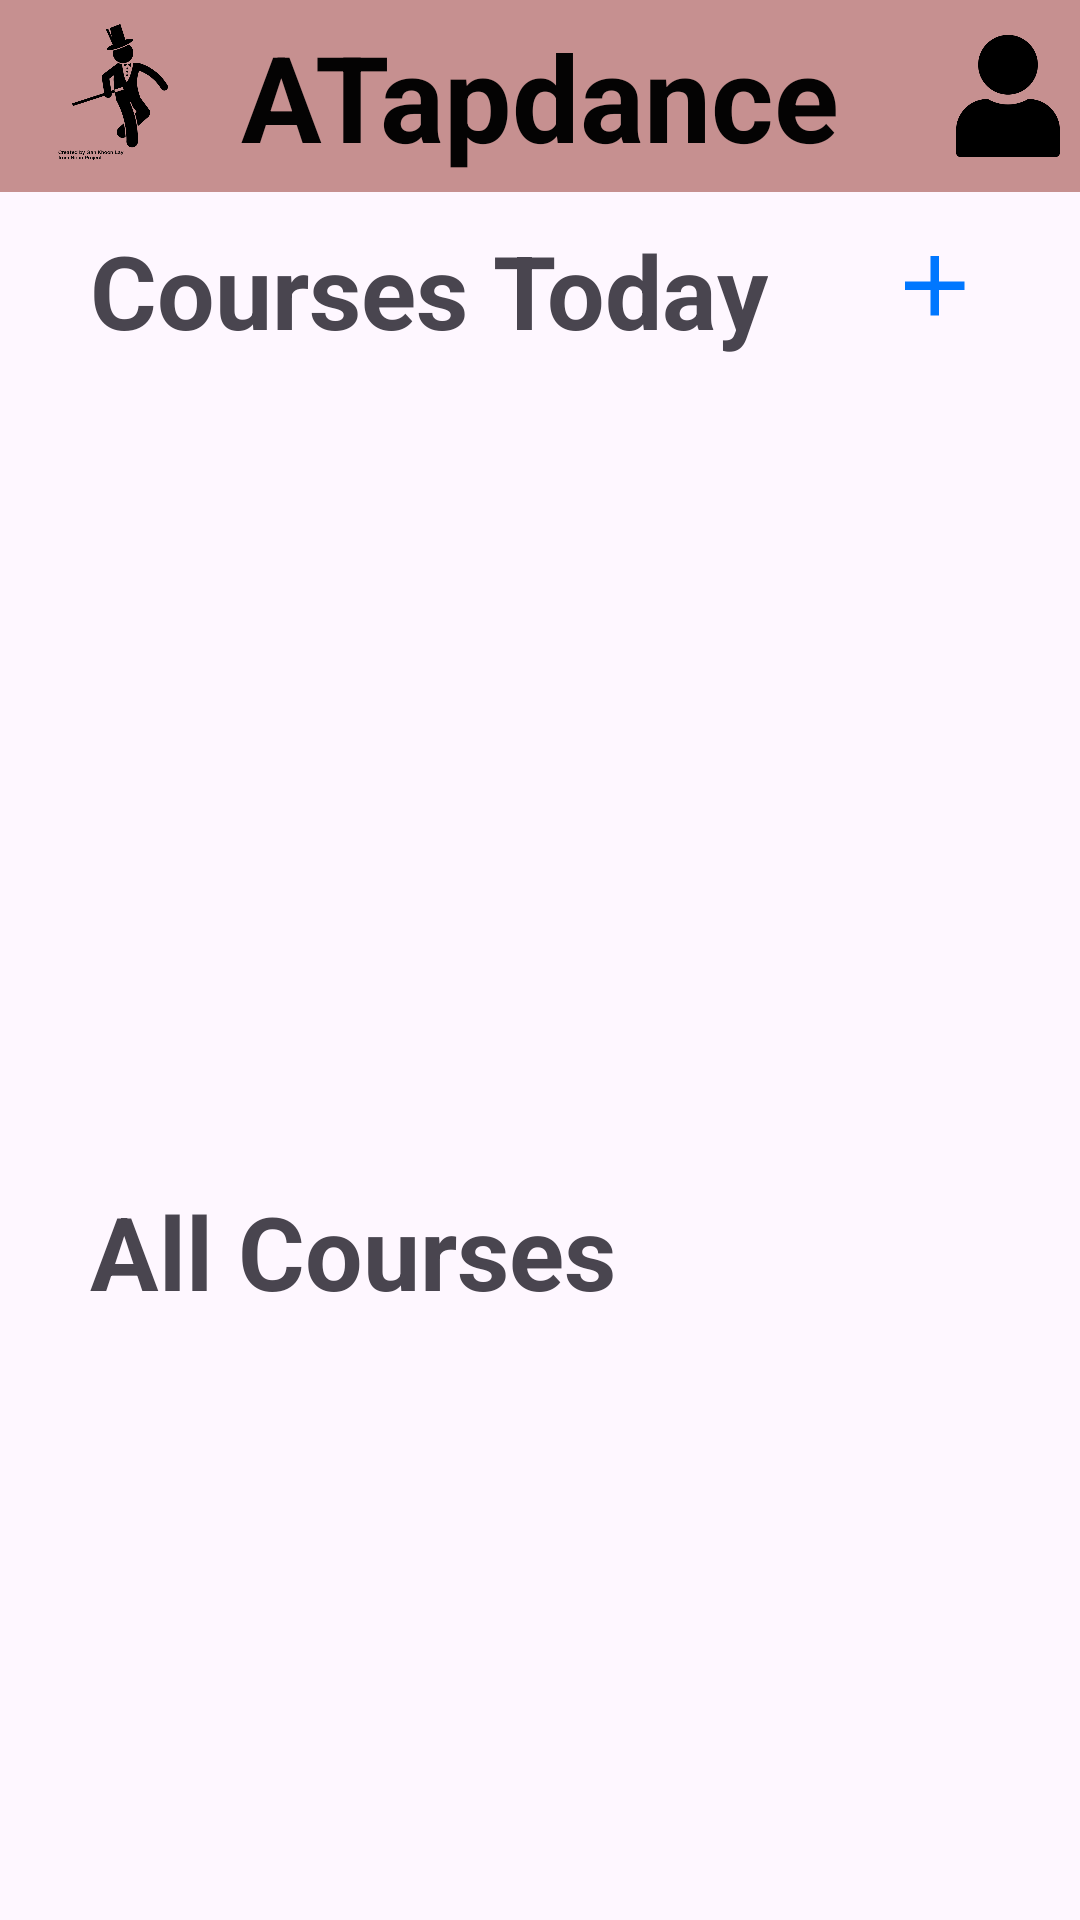

Icons on this 1080w x 1920h Android screen, each with the point to tap as (x,y):
plus: (935,286)
profile: (1008,96)
